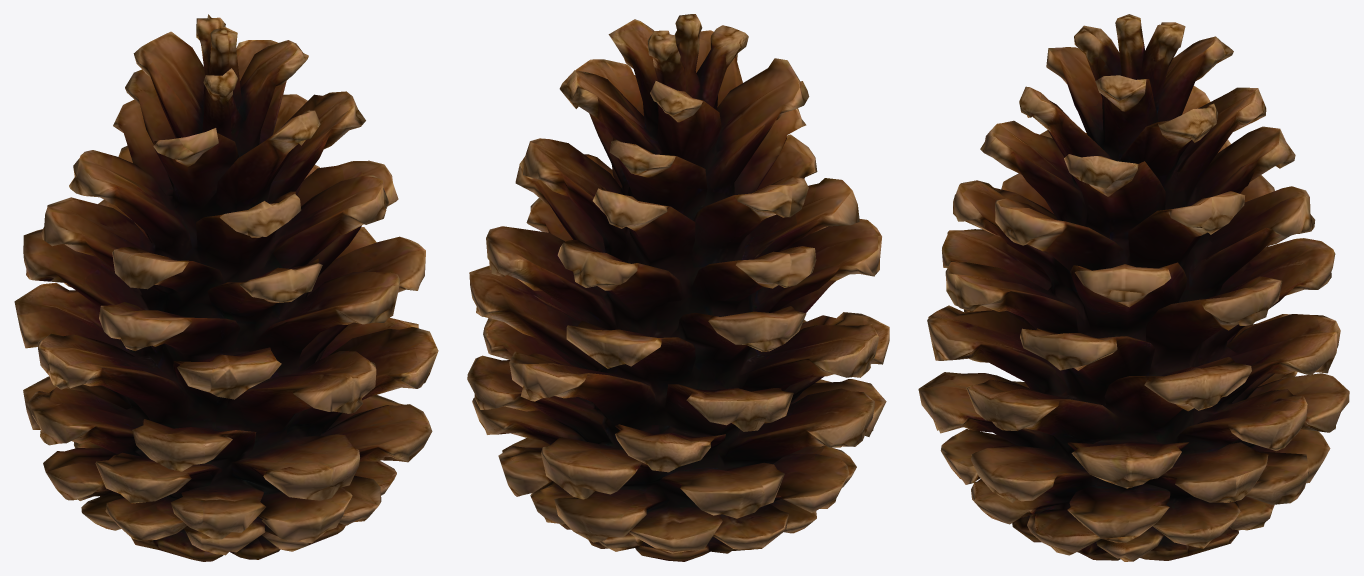
The model's file is PineCone.glb.
3 renders of one model, left to right at view 1: azimuth 30°, elevation 25°; view 2: azimuth 150°, elevation 25°; view 3: azimuth 270°, elevation 25°, orthographic.
Visible parts, largest first — view 1: tripo_node_67241743-b710-42f6-8d49-c25f9cab79ac; view 2: tripo_node_67241743-b710-42f6-8d49-c25f9cab79ac; view 3: tripo_node_67241743-b710-42f6-8d49-c25f9cab79ac.
Part boxes in pixels (bbox=[...]): tripo_node_67241743-b710-42f6-8d49-c25f9cab79ac: bbox=[14, 14, 438, 561]; tripo_node_67241743-b710-42f6-8d49-c25f9cab79ac: bbox=[467, 14, 889, 561]; tripo_node_67241743-b710-42f6-8d49-c25f9cab79ac: bbox=[918, 14, 1349, 561].
Bounding box in the file's own units: 0.7974 × 0.9989 × 0.7762.
1 material, 1 textured.
